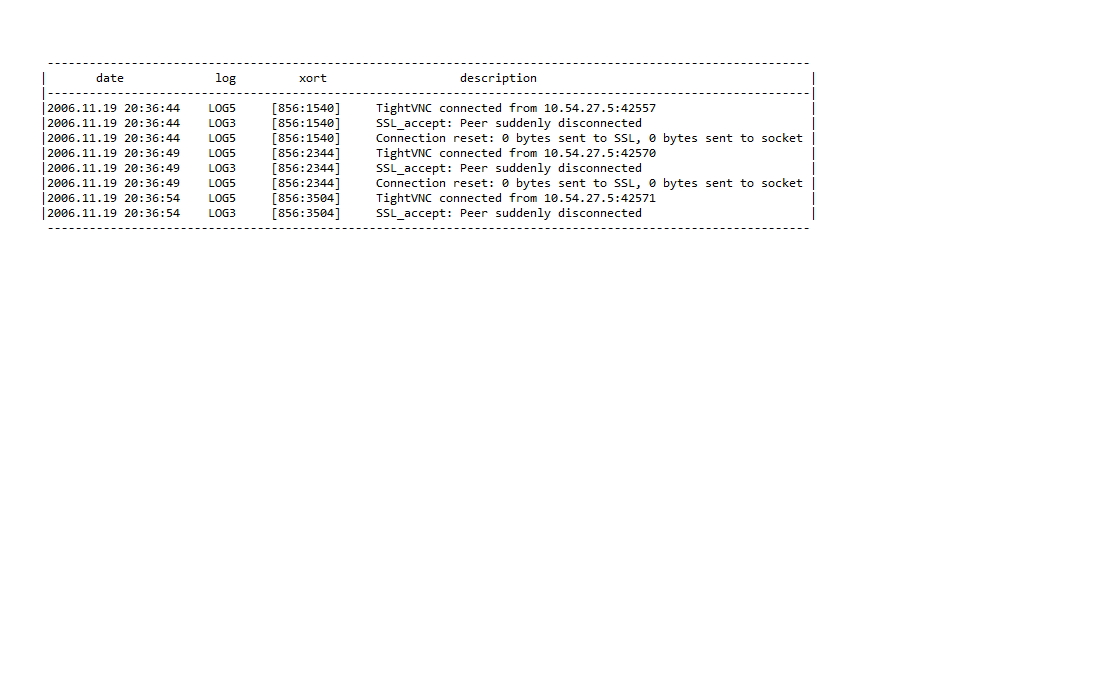table: (39, 59, 819, 236)
